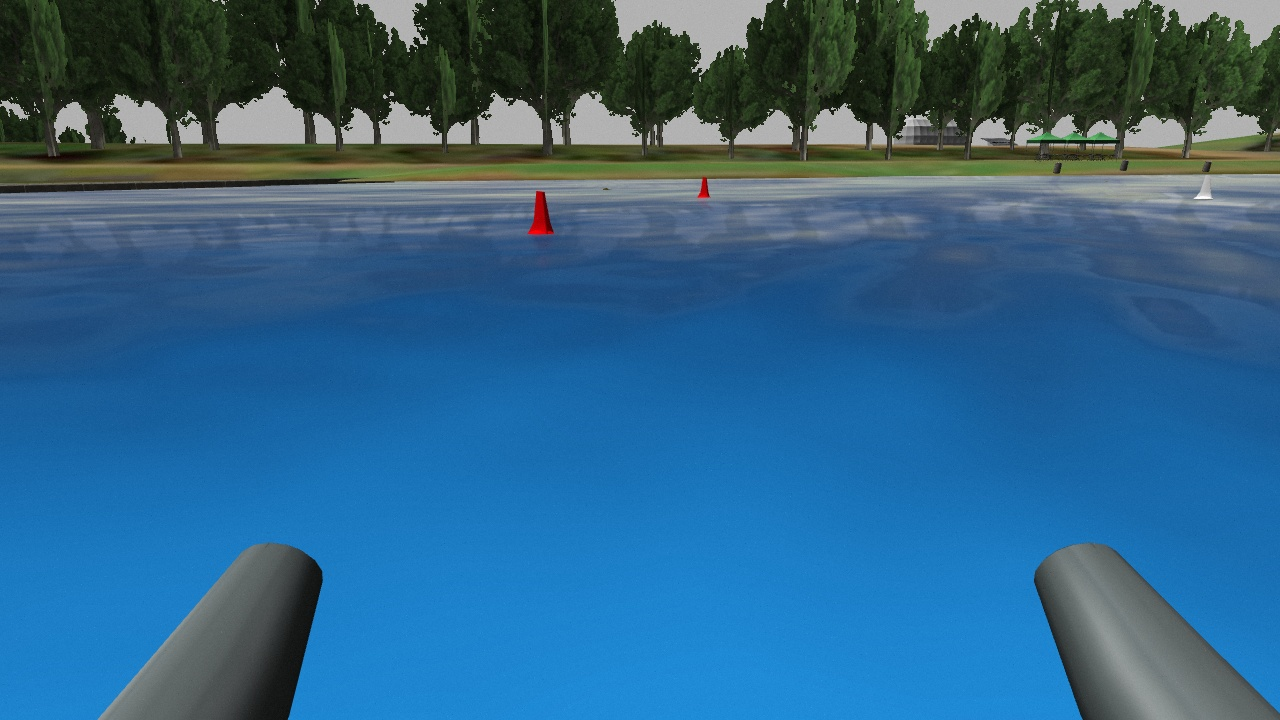blue_totem: (203, 163, 209, 176), (267, 165, 273, 172)
mb_marker_buoy_green: (850, 170, 859, 183)
mb_marker_buoy_red: (1253, 172, 1268, 191), (1076, 170, 1087, 184), (978, 168, 987, 179)
mb_marker_buoy_white: (934, 172, 948, 191), (326, 166, 334, 180)
mb_round_buoy_black: (618, 245, 690, 312), (330, 213, 379, 255), (665, 190, 689, 212), (1200, 197, 1221, 212), (704, 180, 720, 193), (560, 172, 575, 185), (992, 183, 1005, 195), (917, 182, 928, 193), (789, 184, 800, 194), (833, 183, 845, 192), (909, 177, 918, 186), (1221, 174, 1230, 182), (395, 177, 405, 184), (797, 176, 805, 184), (1031, 175, 1039, 182), (823, 174, 830, 180), (1178, 173, 1185, 178), (584, 171, 590, 176), (795, 170, 800, 175), (913, 171, 918, 176), (945, 169, 950, 174), (1047, 170, 1052, 175), (1061, 170, 1066, 175), (1228, 171, 1233, 176), (812, 168, 817, 172), (874, 170, 879, 174), (910, 171, 915, 175), (818, 170, 822, 174)
mb_round_buoy_orange: (963, 234, 1003, 267), (1220, 201, 1243, 217), (42, 190, 61, 204), (1004, 172, 1011, 179), (1174, 171, 1181, 176), (635, 171, 641, 176), (545, 170, 551, 175), (609, 167, 613, 172)
pinger: (1245, 204, 1280, 283), (604, 175, 626, 223), (491, 170, 503, 199), (843, 179, 856, 203), (477, 168, 486, 188), (763, 173, 772, 190), (804, 166, 811, 183), (674, 170, 682, 184), (704, 167, 710, 179)
yellow_totem: (389, 164, 393, 172)
